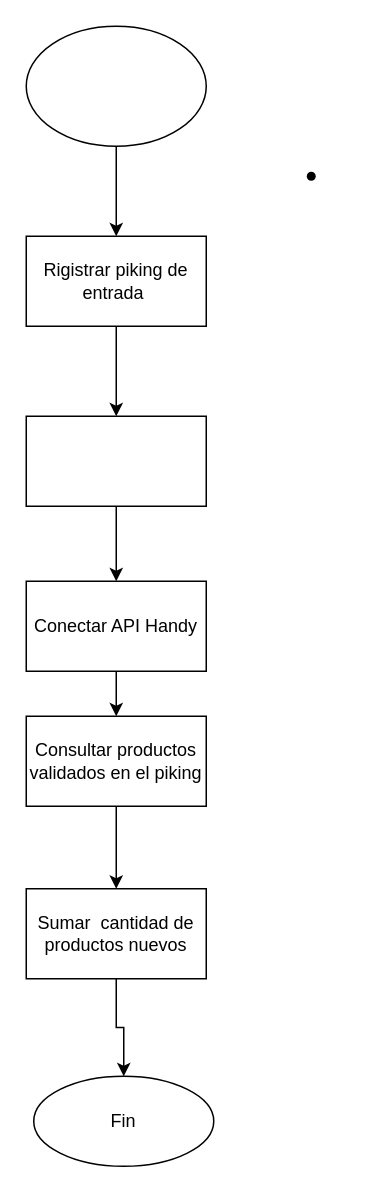
Some shapes in this 368 by 1193 pixel diagram are drawn without their labels. Each missing label, with the centre of its shape:
"Inicio" belongs at (x=115, y=85).
"Validar de piking" belongs at (x=115, y=460).
